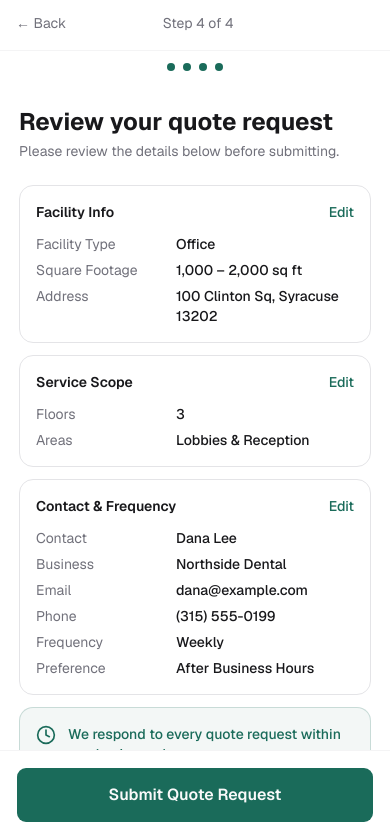
Test: commercial review: submit failures › shows an alert with an icon, a Try again button and the business phone
The image size is (390, 839).
What coordinates should you click on to do the following:
click the button "Submit Quote Request"
I would click on:
 (195, 795)
Its box is [16,767,374,823].
(page scrolled)
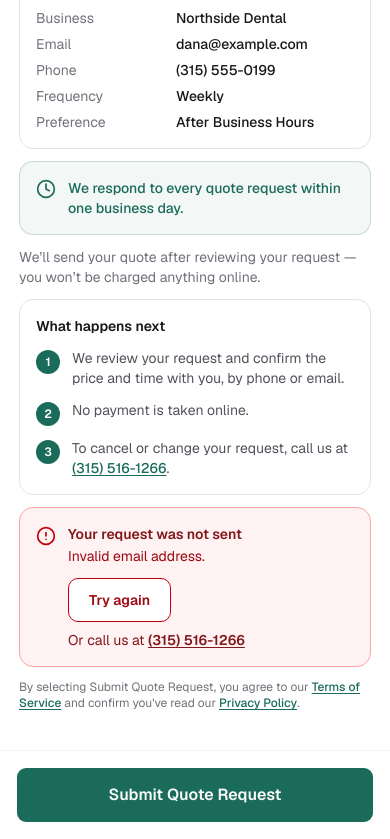
Now the message is shown, box [19,507,371,667]
Now the message shows "Your request was not sent", box [68,525,242,543]
Now the message shows "Invalid email address.", box [68,547,205,565]
